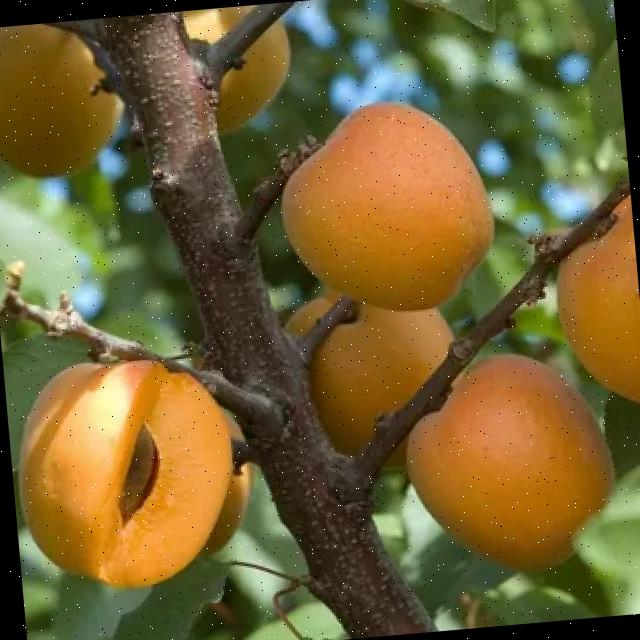Cekirdek: (119, 426, 157, 522)
Kayisi: (21, 361, 251, 585)
Yaprak: (114, 558, 229, 640)
